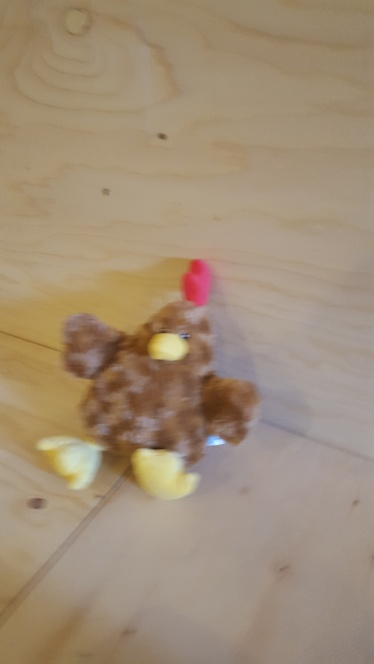chicken_front: (33, 259, 263, 499)
